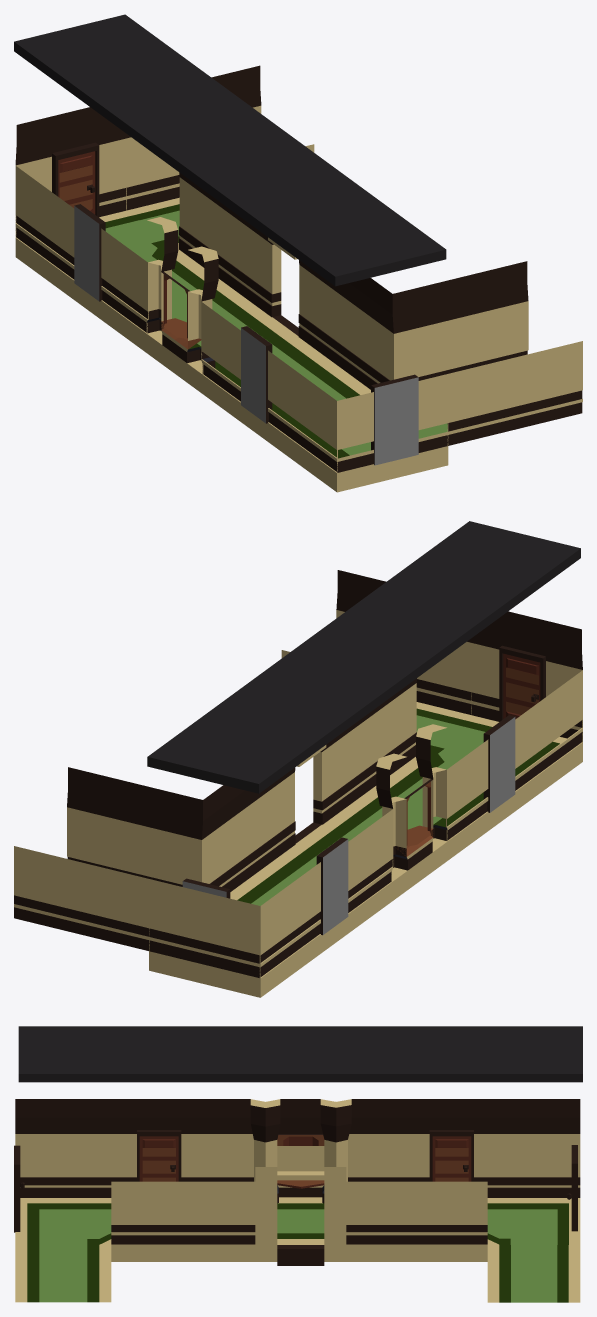
Rendered from elbowedHallway1.fbx.
The picture shows the model from 3 angles, top to bottom: view 1: azimuth 30°, elevation 25°; view 2: azimuth 150°, elevation 25°; view 3: azimuth 270°, elevation 25°; orthographic projection. The views are drawn at different scales.
Parts seen in each view (by area): view 1: hallway, Cube.001; view 2: hallway, Cube.001; view 3: hallway, Cube.001.
Boxes of the visible parts, <box> form: hallway: <box>15,65,582,492</box>; Cube.001: <box>14,14,446,286</box>; hallway: <box>14,570,582,997</box>; Cube.001: <box>147,521,580,793</box>; hallway: <box>14,1099,580,1302</box>; Cube.001: <box>18,1026,582,1082</box>.
Bounding box in the file's own units: 674 × 552 × 1513.
